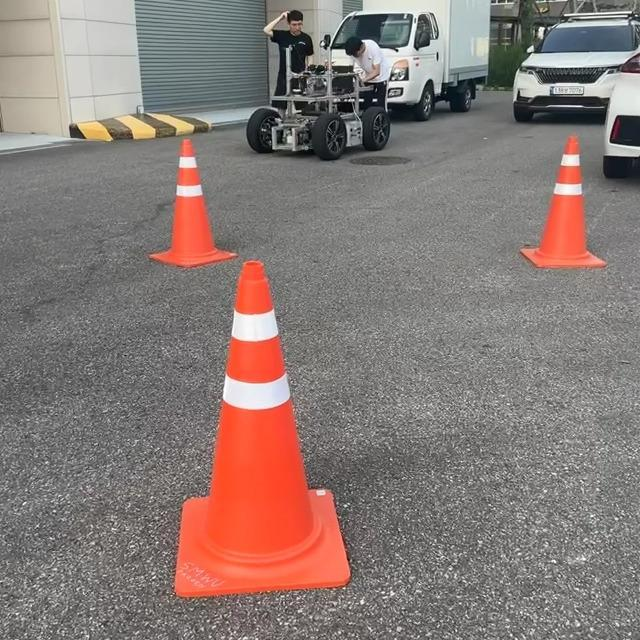fallen_object: (163, 262, 387, 619), (150, 116, 258, 298), (499, 140, 609, 307)
